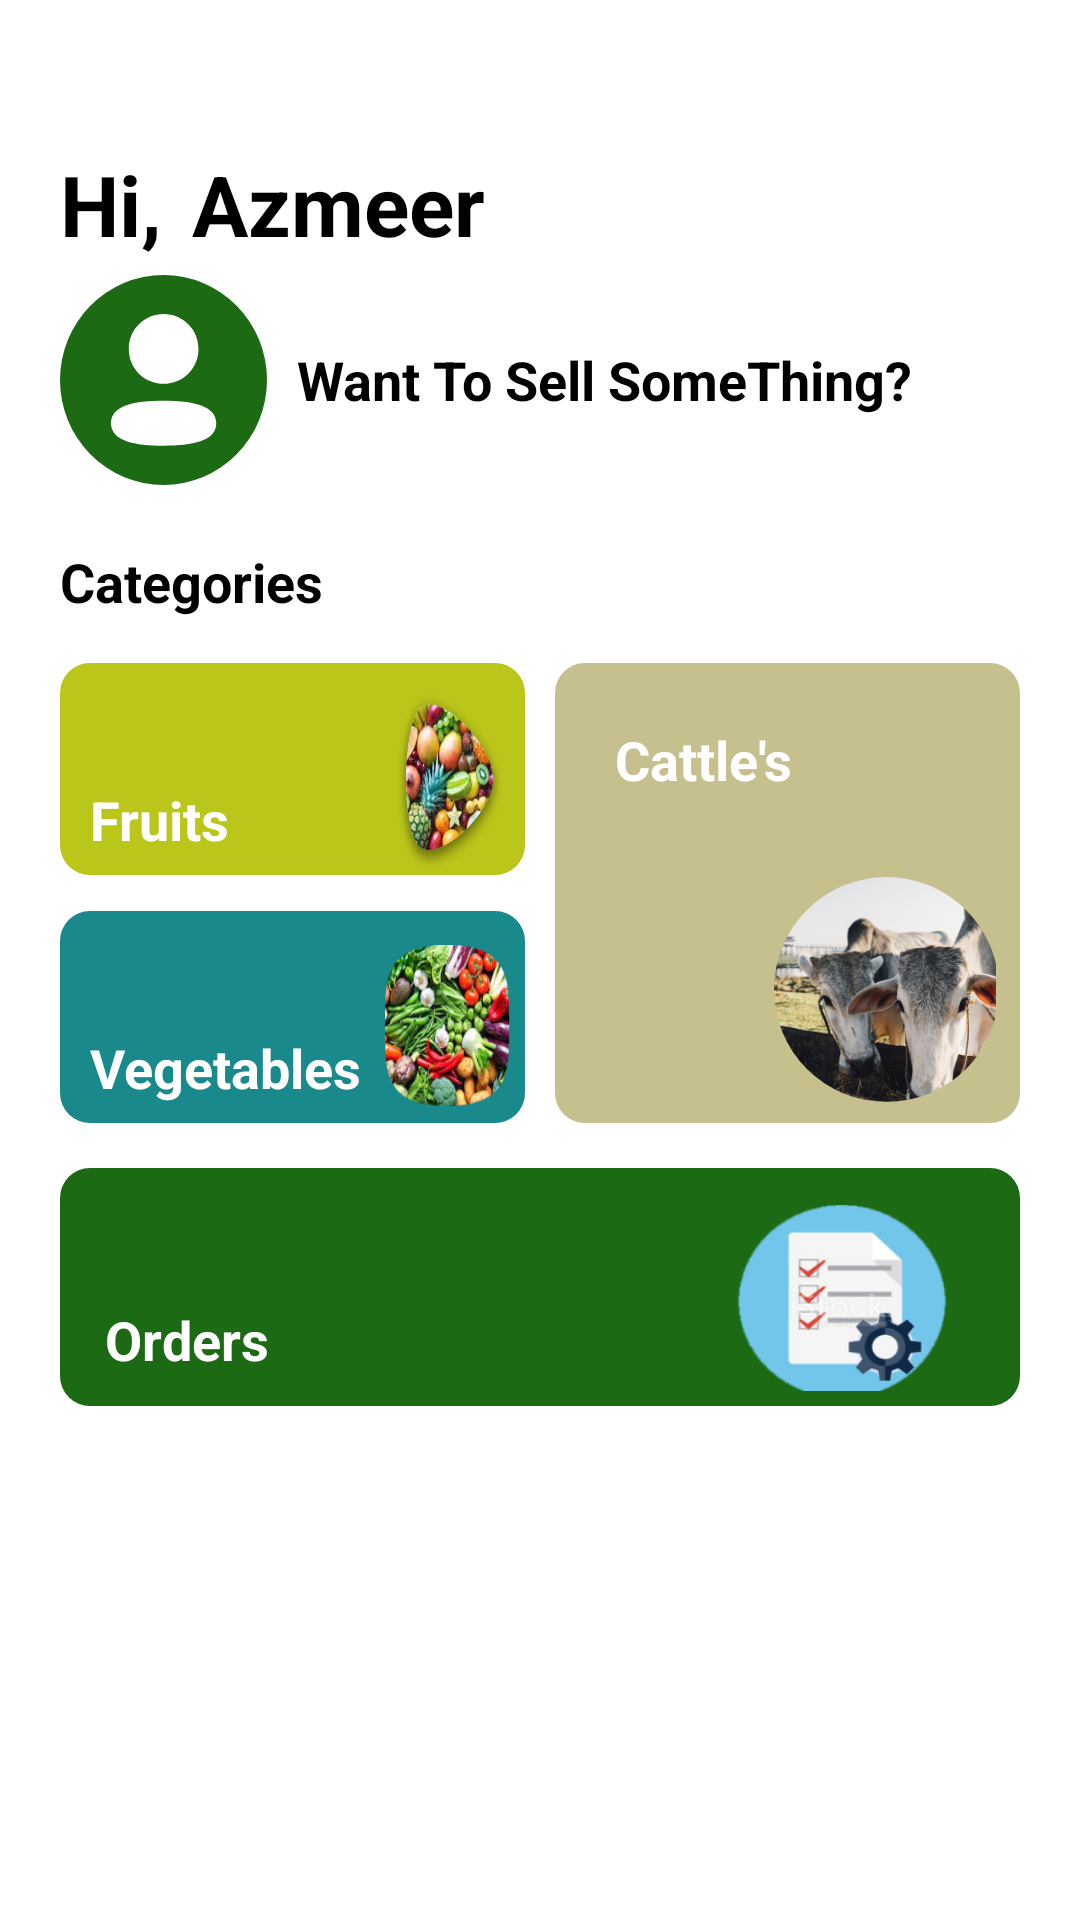

Icons on this 1080 x 1920 Android screen, each with its box as (x1, y1, x2, y2):
fruit: (403, 704, 496, 860)
order: (737, 1205, 947, 1391)
profile: (60, 275, 267, 485)
veg: (385, 945, 510, 1106)
